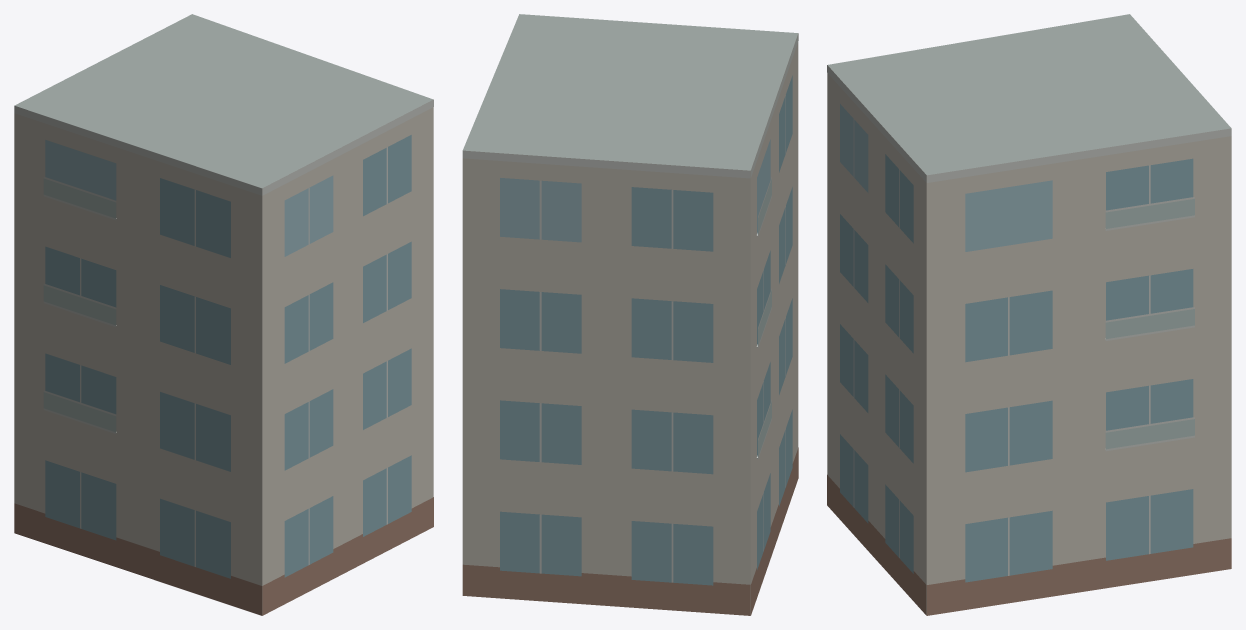
File: survey-upis-32842444.glb
3 views of the same model, side by side, from view 1: azimuth 30°, elevation 25°; view 2: azimuth 150°, elevation 25°; view 3: azimuth 270°, elevation 25° (orthographic). The views are drawn at different scales.
Visible parts, largest first — view 1: survey-upis-32842444.tmp; view 2: survey-upis-32842444.tmp; view 3: survey-upis-32842444.tmp.
Boxes of the visible parts, x1,y1,x2,y2 form: survey-upis-32842444.tmp: (14, 14, 433, 615); survey-upis-32842444.tmp: (462, 14, 798, 615); survey-upis-32842444.tmp: (827, 14, 1231, 615).
Size of the model in its own units: 10.94 by 13.91 by 11.58.
